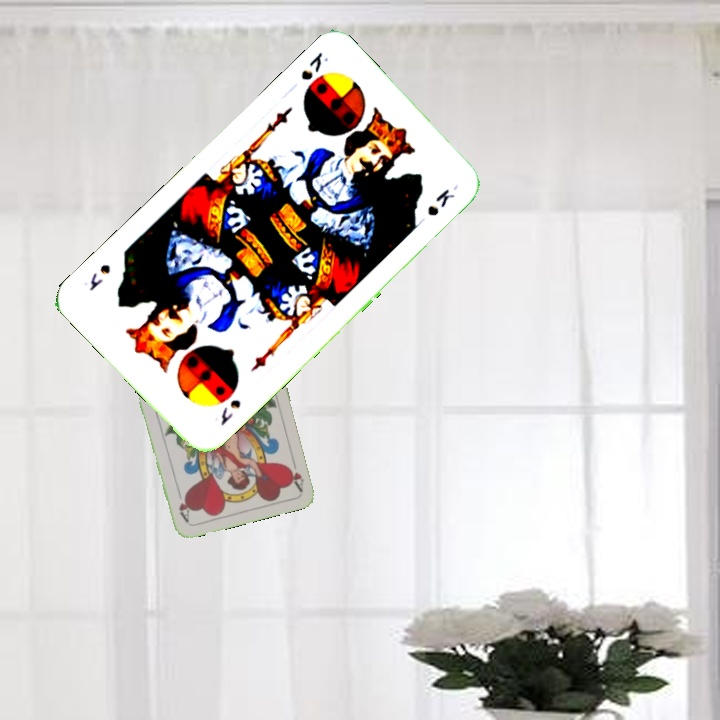HA: (283, 452, 306, 493)
SK: (296, 47, 331, 83), (216, 395, 244, 428)
